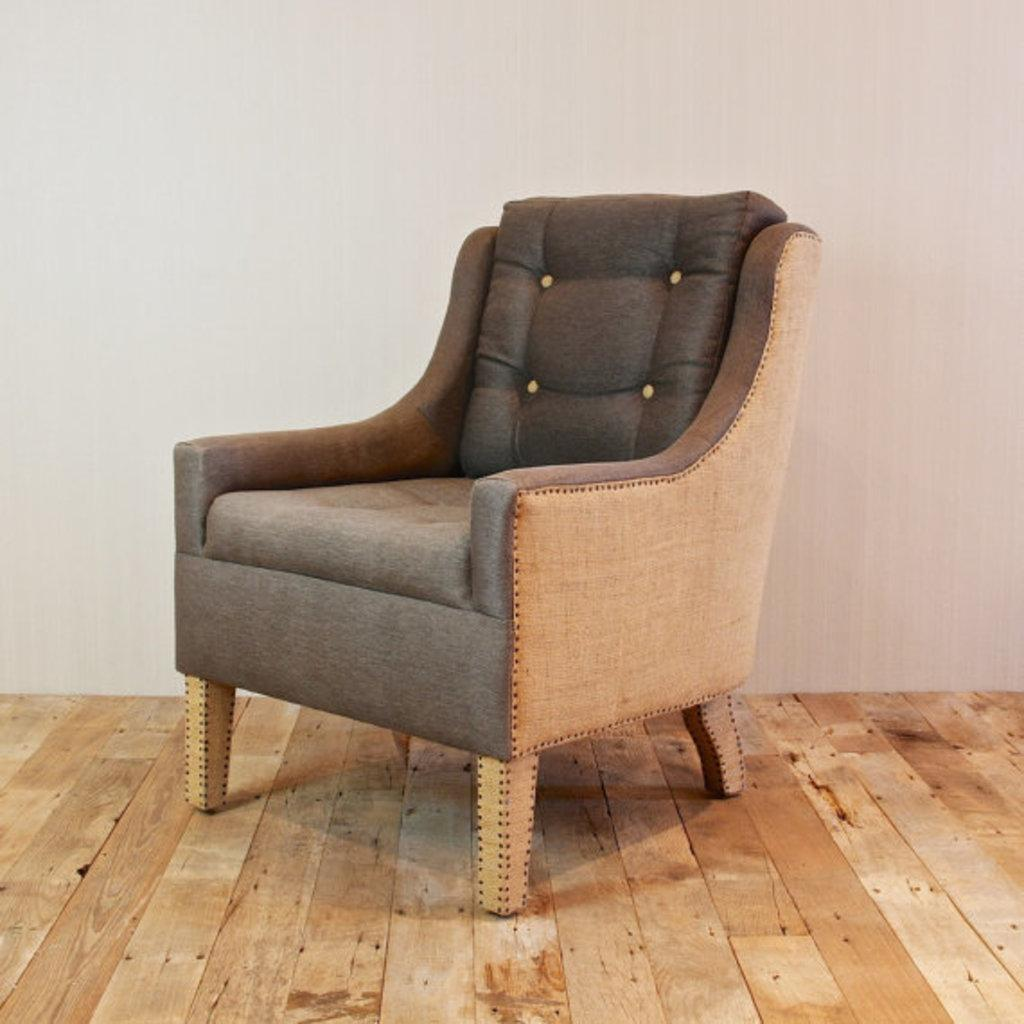Chair: (172, 178, 823, 922)
